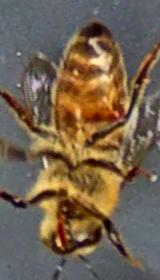varroa_mite: (92, 99, 140, 126)
